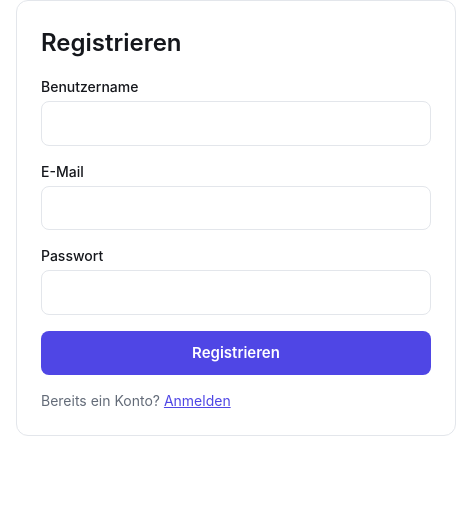
Test case: RegisterPage › shows the conflict message from the error envelope
In the field labelled "Benutzername": (236, 123) [41,101,431,146], type "alice"
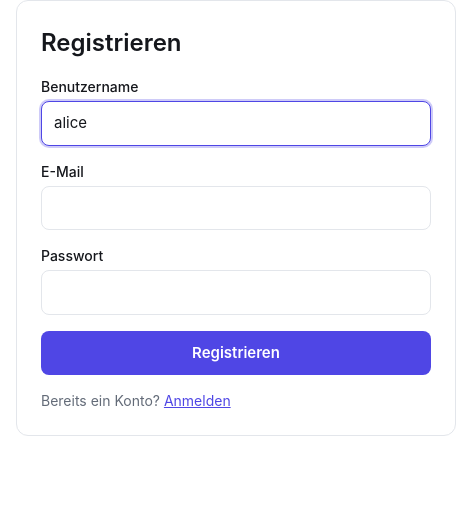
In the field labelled "E-Mail": (236, 208) [41,186,431,230], type "alice@example.com"
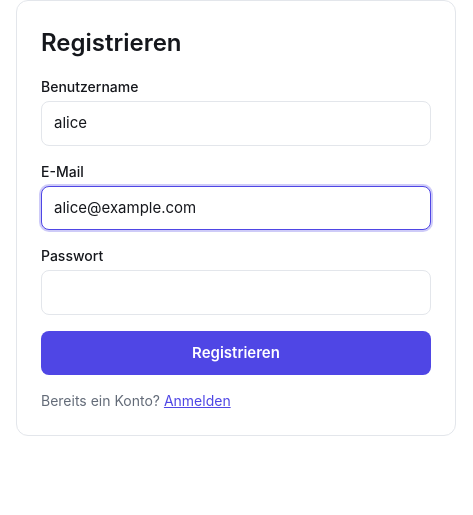
In the password field labelled "Passwort": (236, 292) [41,270,431,314], type "SichereS3!chens"
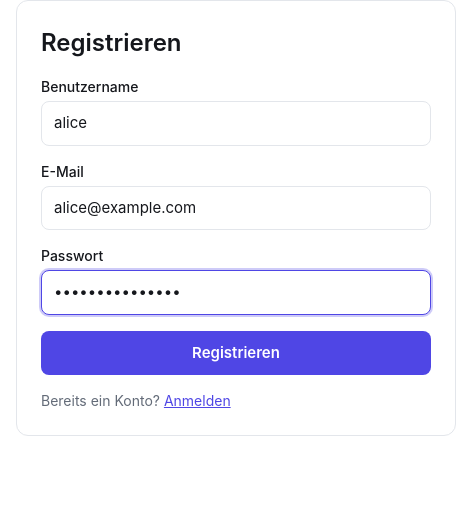
Click the button "Registrieren": (236, 352) [41,330,431,374]
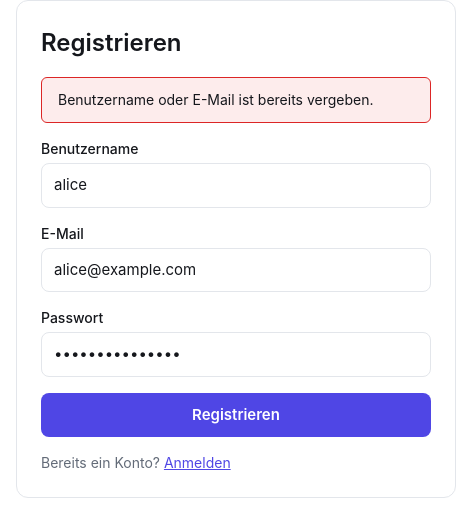
expect the text "Benutzername oder E-Mail ist bereits vergeben." is shown: met, box [41,77,431,123]
